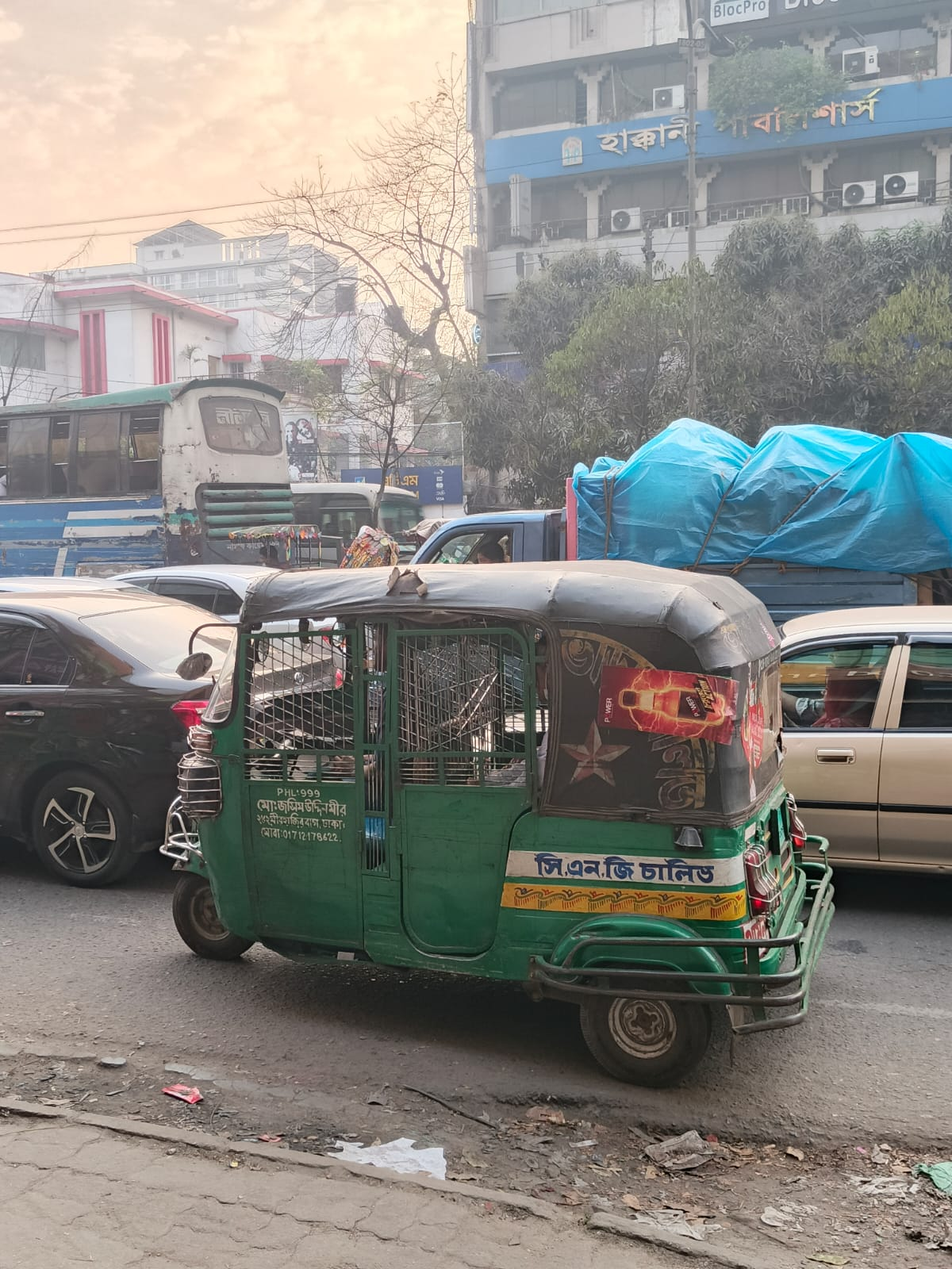cng: (167, 533, 841, 1099)
